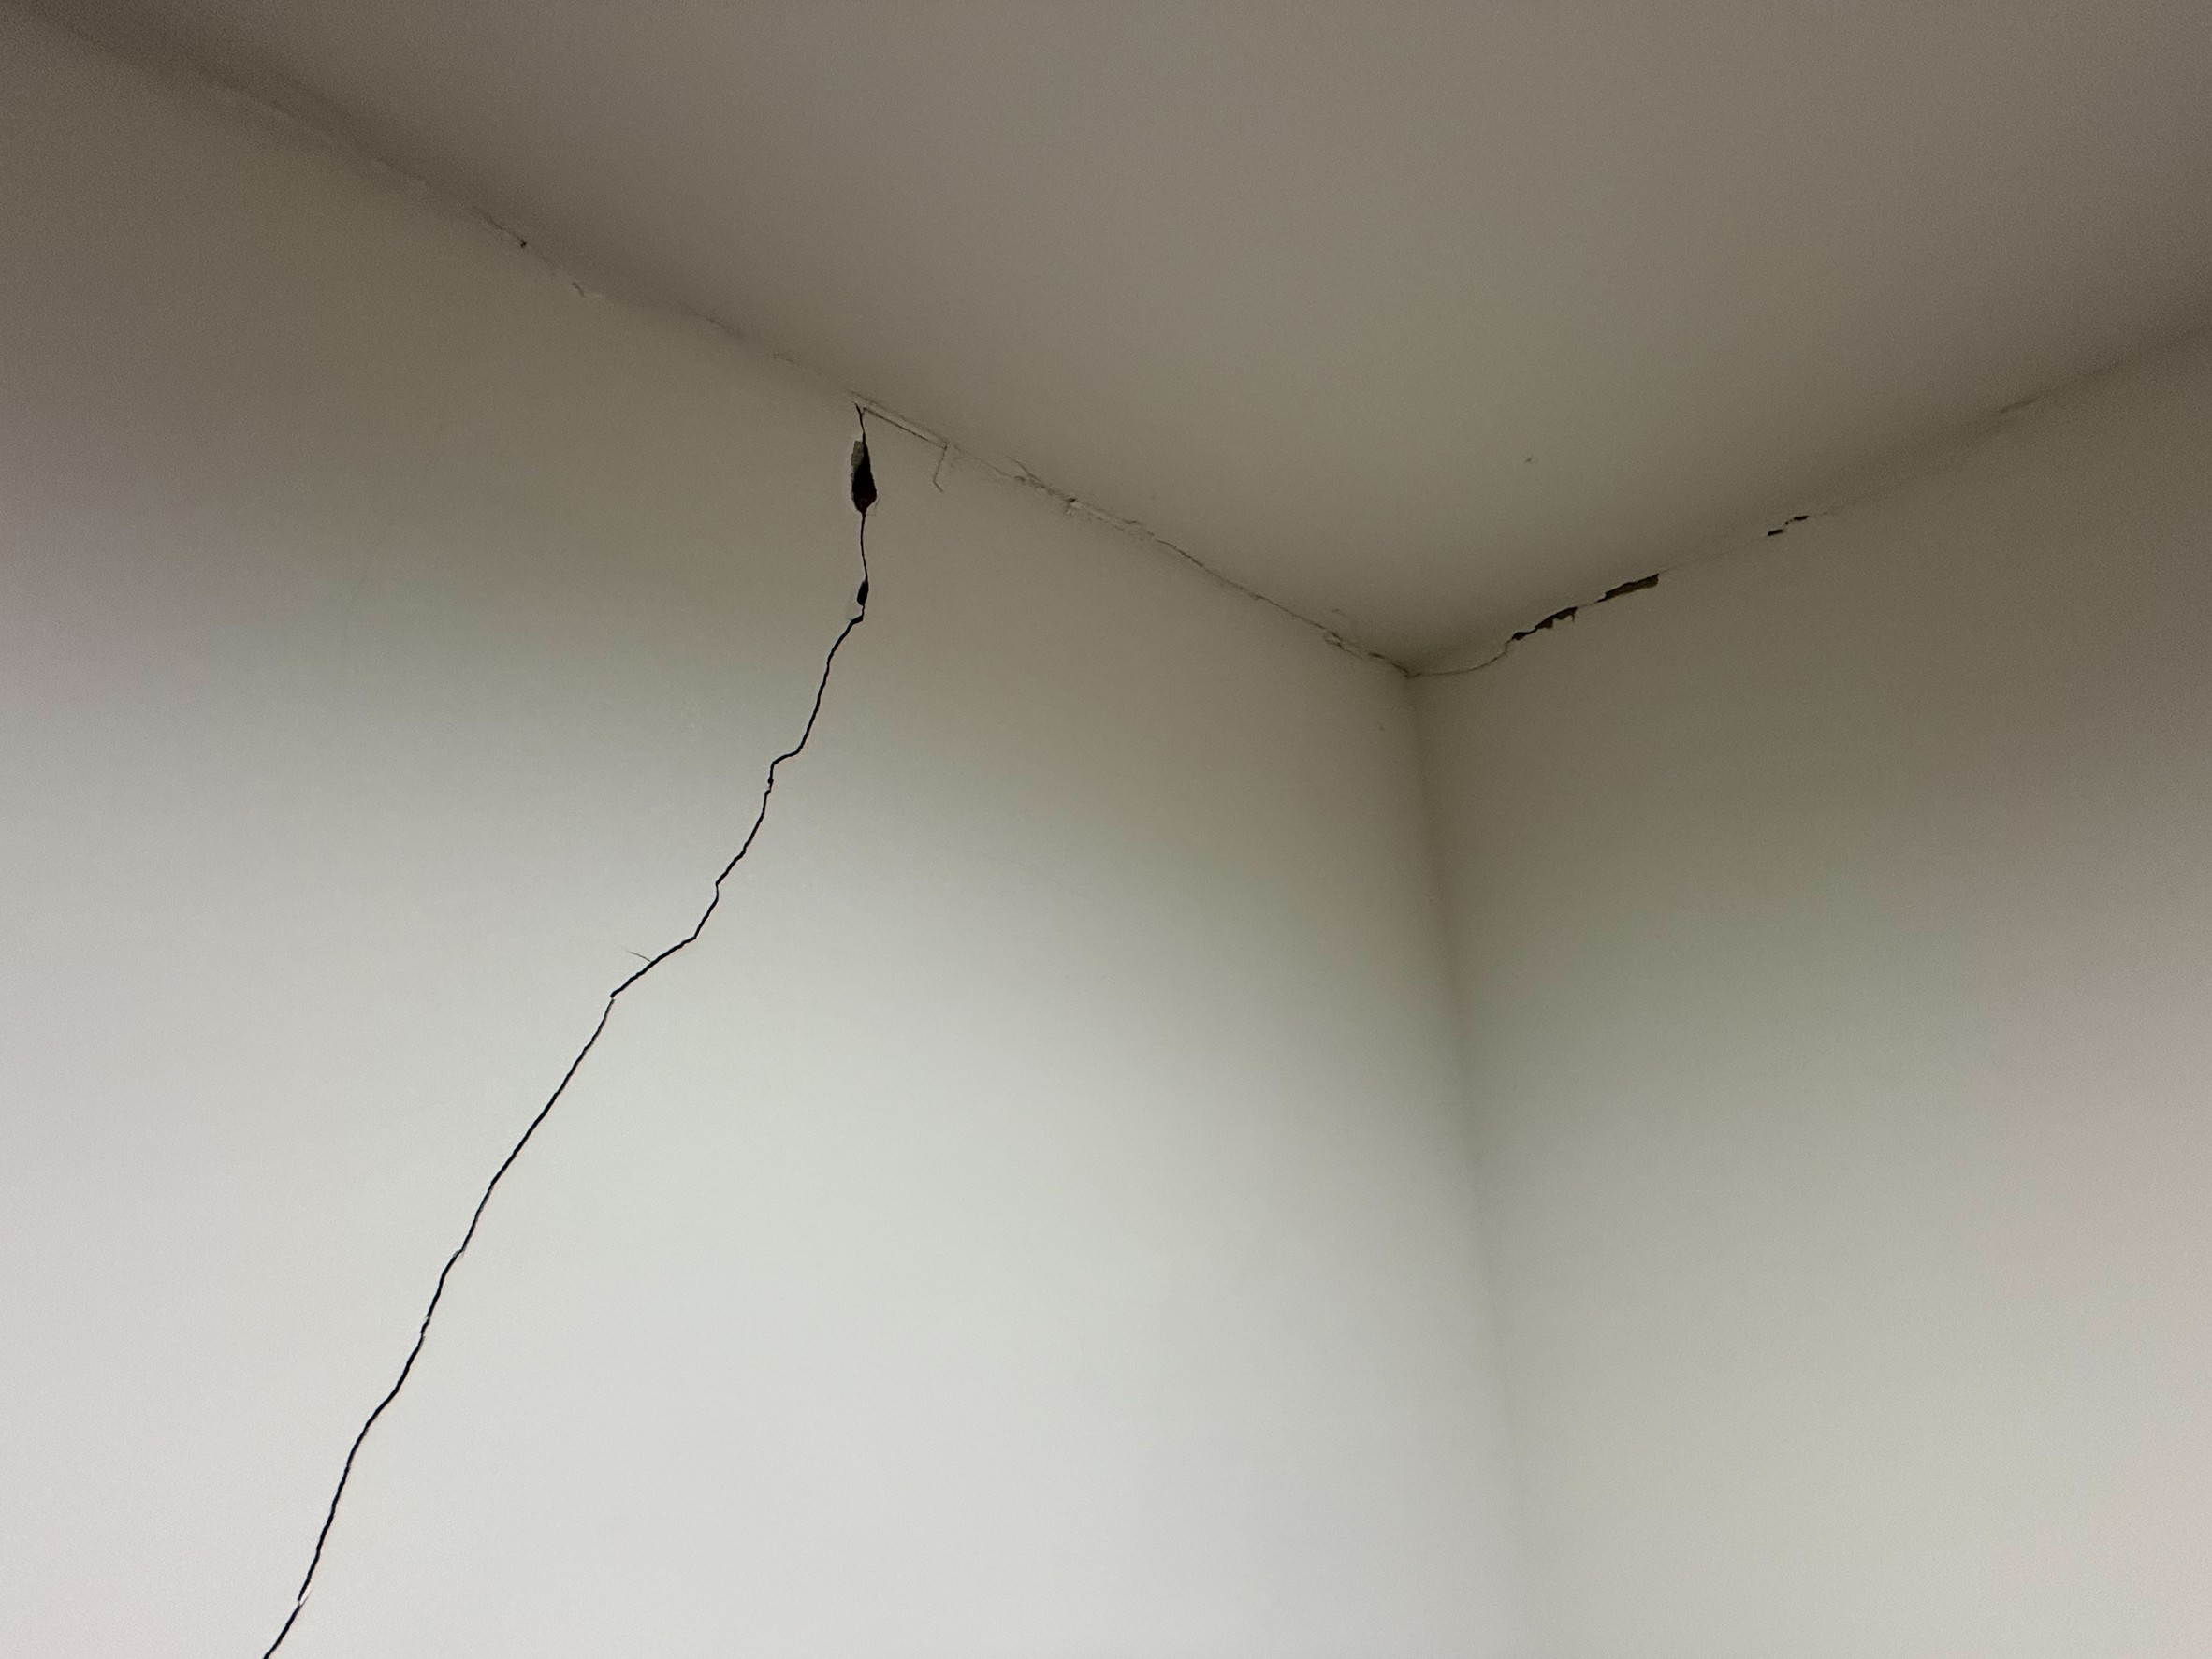Low: (218, 366, 981, 1656)
